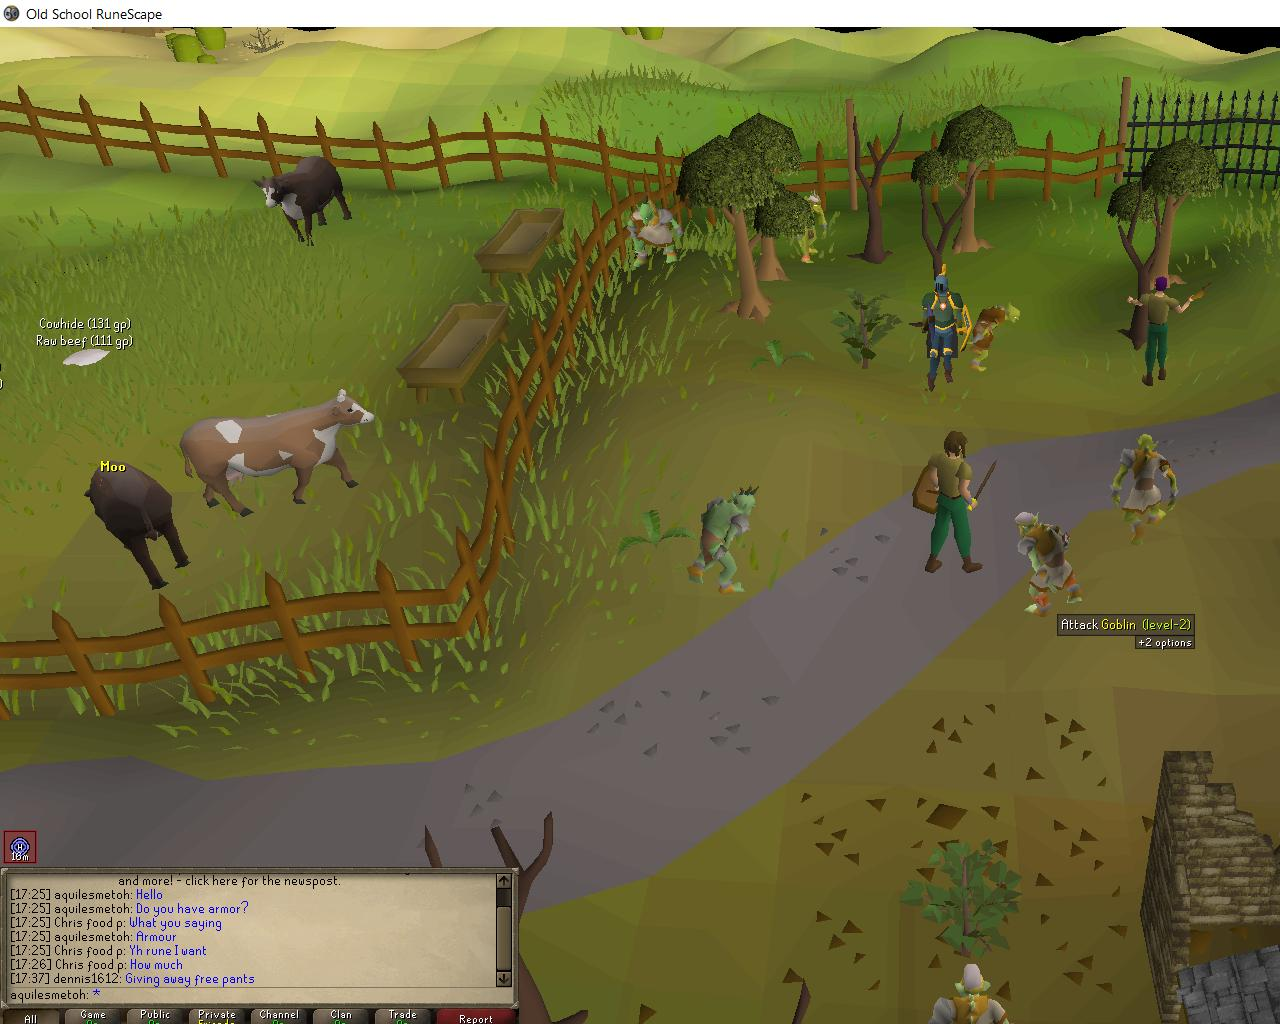Goblin: (1107, 426, 1179, 548), (1005, 510, 1086, 615), (684, 482, 758, 595), (621, 200, 682, 267), (963, 299, 1020, 373), (784, 190, 830, 263)
